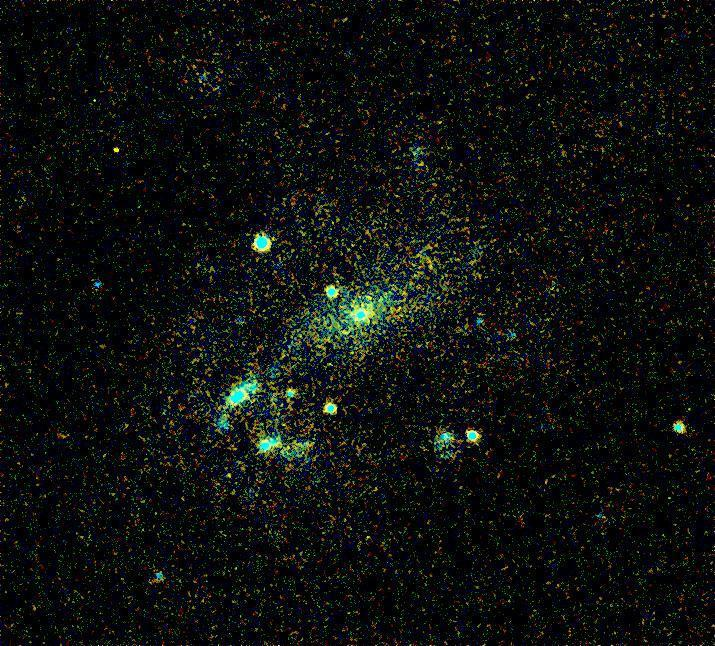star: (101, 133, 131, 163)
